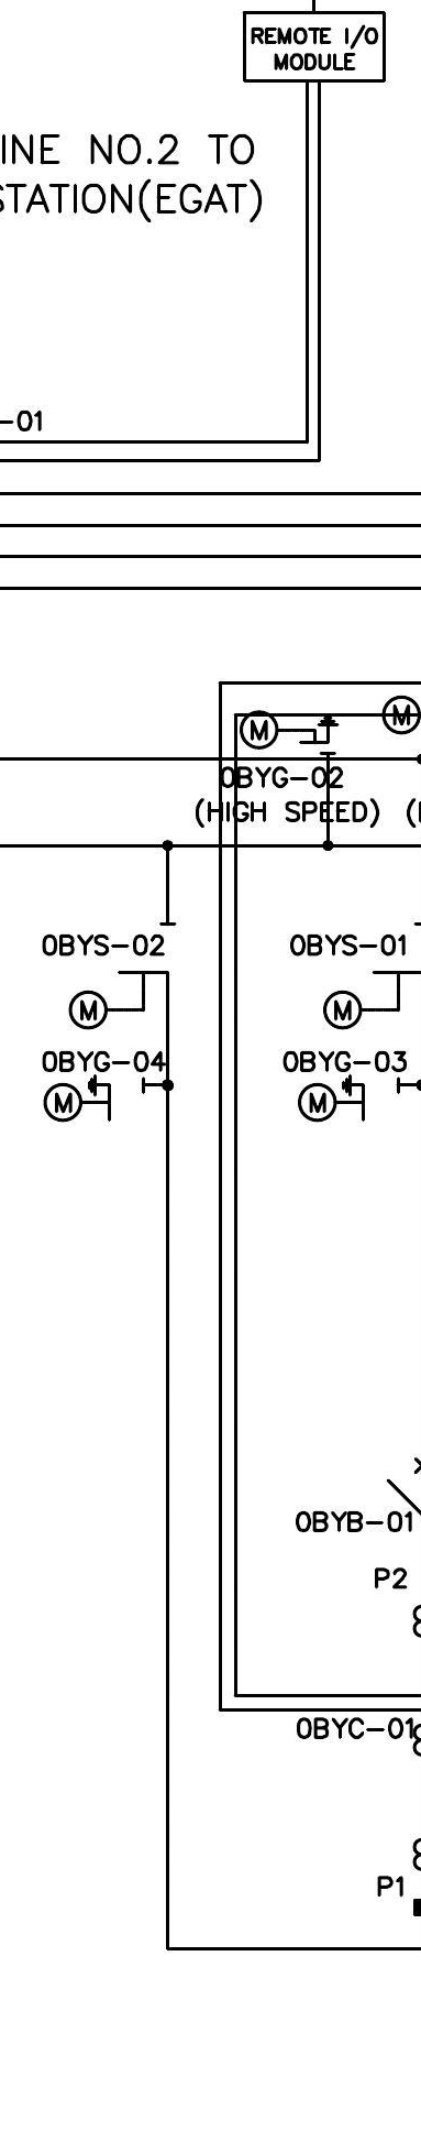115_1way_ds_w_motor: (67, 922, 178, 1030)
115_gs_w_motor: (297, 1074, 400, 1123), (42, 1074, 145, 1123), (239, 709, 340, 755)
remote_io_module: (242, 11, 387, 83)
